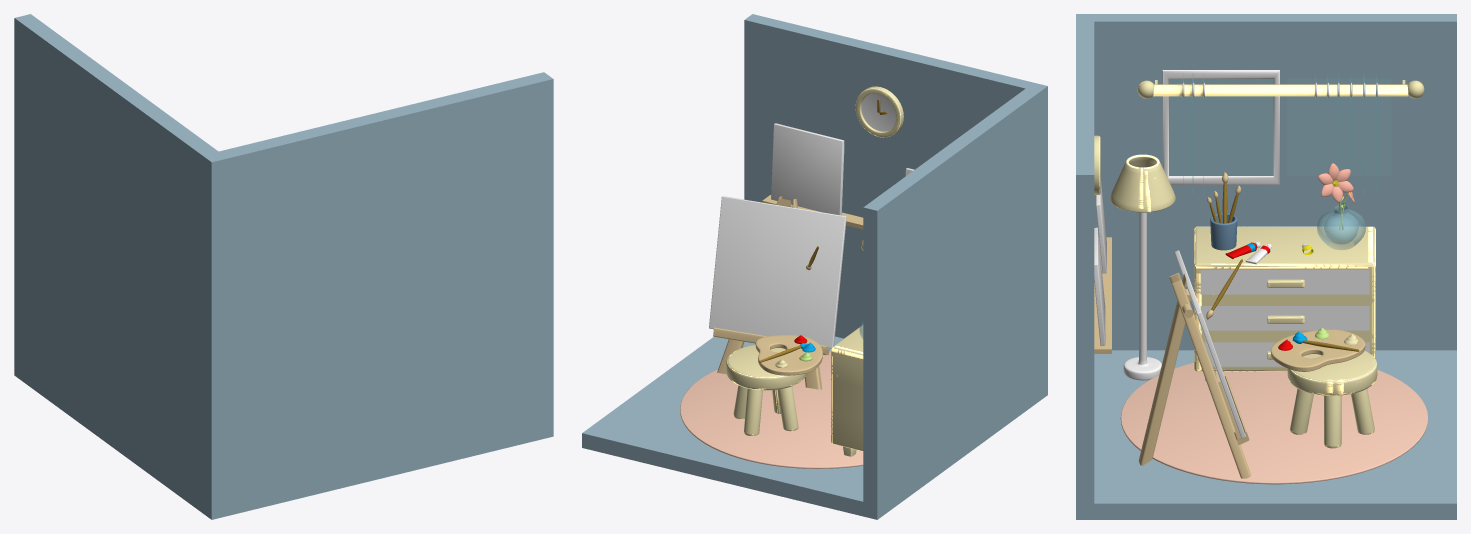
File: room_painting_2.gltf
3 views of the same model, side by side, from view 1: azimuth 30°, elevation 25°; view 2: azimuth 150°, elevation 25°; view 3: azimuth 270°, elevation 25° (orthographic). The views are drawn at different scales.
Visible parts, largest first — view 1: room'-Mat.3; view 2: room'-Mat.3 (×3), canvas, Cylinder.3, canvas.1, Cube-Mat.4, Cylinder.1, Cube.1, Cylinder-Mat.2, Cylinder-Mat.4, Cylinder.5, Cylinder.2, Cube.4; view 3: room'-Mat.3 (×3), Cylinder.3 (×2), Cube-Mat.4, Cube-Mat.2 (×2), Cube.1-Mat.12, Cube.2-Mat.12, Cylinder (×3), Cube.1 (×3), Cylinder.1 (×3), Cube.1-Mat.2, canvas, Cube.13 (+5 smaller).
Boxes of the visible parts, bbox=[...] form: room'-Mat.3: bbox=[14, 14, 553, 519]; room'-Mat.3 (×3): bbox=[582, 14, 1047, 519]; canvas: bbox=[709, 196, 846, 348]; Cylinder.3: bbox=[680, 351, 863, 468]; canvas.1: bbox=[771, 123, 844, 215]; Cube-Mat.4: bbox=[831, 325, 863, 451]; Cylinder.1: bbox=[726, 345, 806, 390]; Cube.1: bbox=[755, 335, 822, 375]; Cylinder-Mat.2: bbox=[861, 93, 896, 131]; Cylinder-Mat.4: bbox=[855, 86, 903, 137]; Cylinder.5: bbox=[744, 388, 762, 435]; Cylinder.2: bbox=[777, 386, 798, 431]; Cube.4: bbox=[713, 327, 829, 355]; room'-Mat.3 (×3): bbox=[1076, 14, 1456, 519]; Cylinder.3 (×2): bbox=[1120, 362, 1428, 484]; Cube-Mat.4: bbox=[1194, 226, 1375, 371]; Cube-Mat.2 (×2): bbox=[1200, 270, 1369, 366]; Cube.1-Mat.12: bbox=[1169, 79, 1273, 175]; Cube.2-Mat.12: bbox=[1287, 78, 1390, 175]; Cylinder (×3): bbox=[1110, 80, 1424, 380]; Cube.1 (×3): bbox=[1138, 274, 1365, 478]; Cylinder.1 (×3): bbox=[1210, 205, 1377, 395]; Cube.1-Mat.2: bbox=[1162, 70, 1279, 184]; canvas: bbox=[1174, 250, 1245, 438]; Cube.13: bbox=[1094, 237, 1111, 353].
Size of what is drawn, in the model's own units: 1050 by 1050 by 1050.
